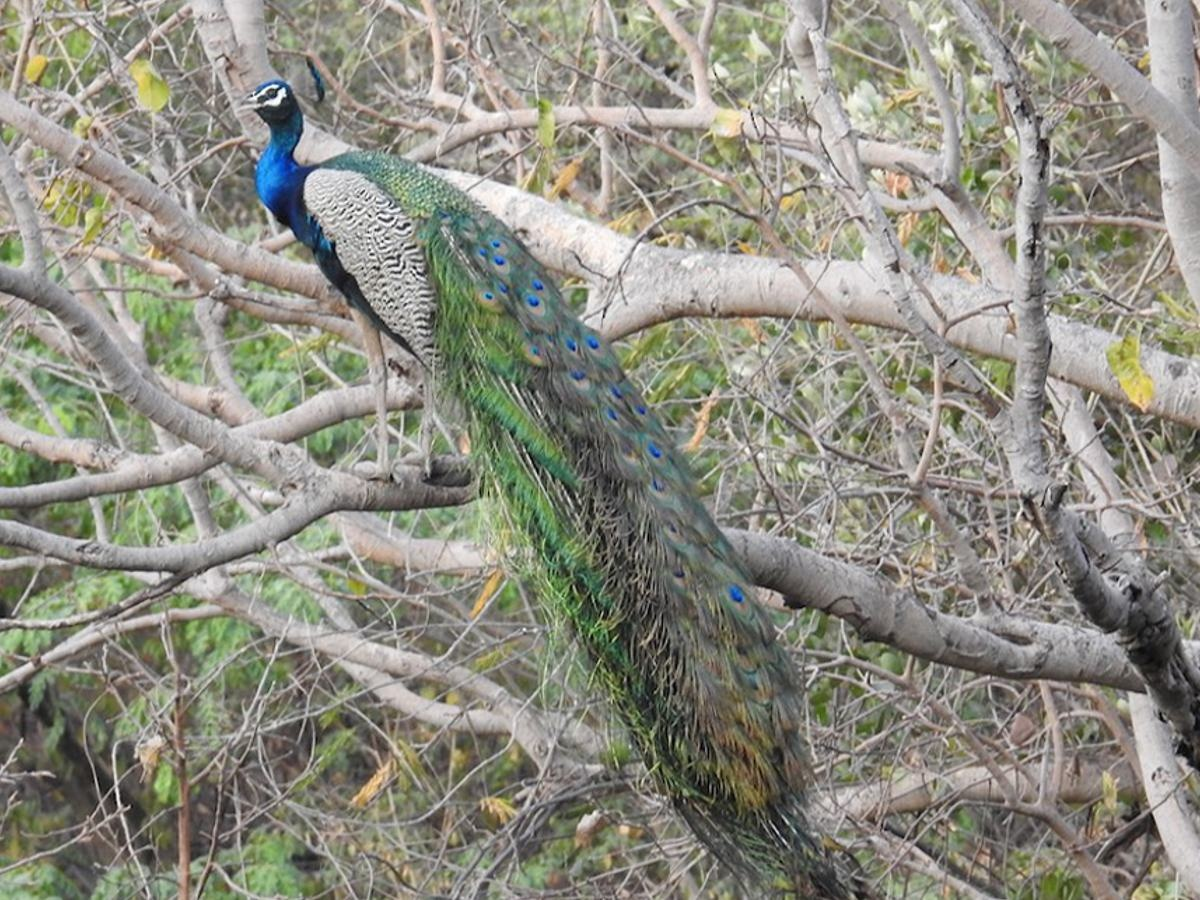peacock: (183, 40, 875, 884)
